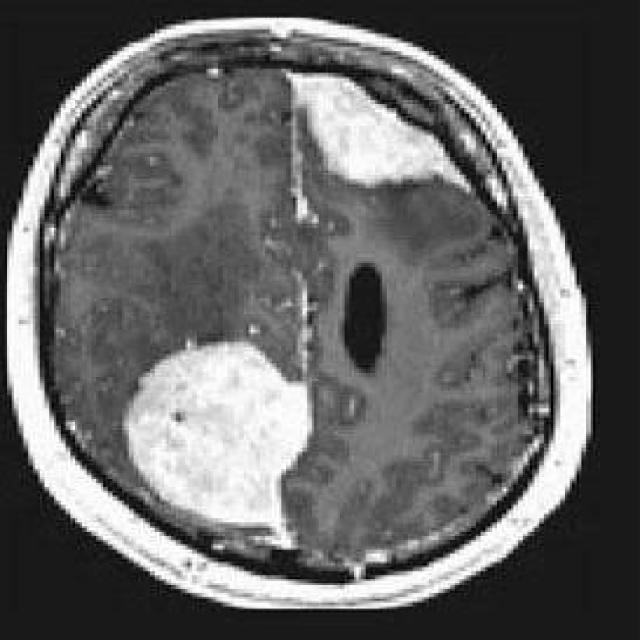Tumor: (124, 344, 309, 542), (288, 75, 469, 187)
